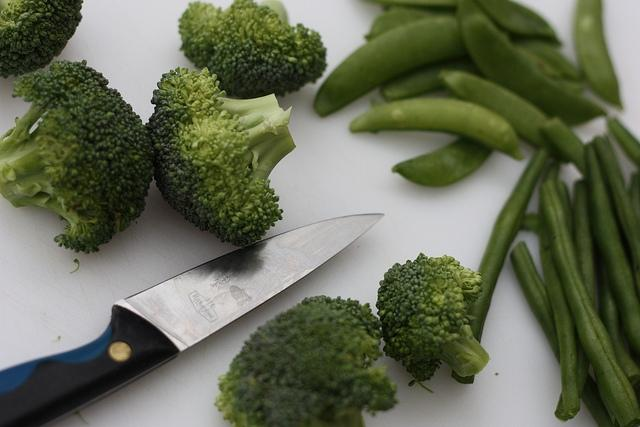broccoli: (0, 60, 155, 254), (145, 67, 296, 250), (214, 295, 399, 427), (178, 0, 327, 99), (376, 253, 490, 382), (0, 0, 83, 78)
green bean: (541, 161, 640, 427), (510, 241, 614, 427), (465, 147, 549, 344), (313, 17, 472, 116), (439, 70, 568, 164), (584, 142, 638, 354), (349, 96, 526, 160), (538, 160, 580, 418), (554, 179, 595, 422), (592, 136, 639, 302), (594, 240, 639, 393), (572, 0, 624, 111), (392, 137, 493, 187), (382, 56, 483, 100), (472, 0, 560, 45), (365, 3, 456, 42), (509, 34, 582, 82), (542, 117, 586, 178), (606, 116, 640, 169)
pea: (455, 1, 607, 126), (437, 69, 570, 163), (348, 97, 524, 161), (392, 137, 494, 187), (574, 5, 622, 110), (380, 59, 482, 103), (476, 0, 556, 40), (368, 6, 456, 41), (509, 40, 561, 80)
